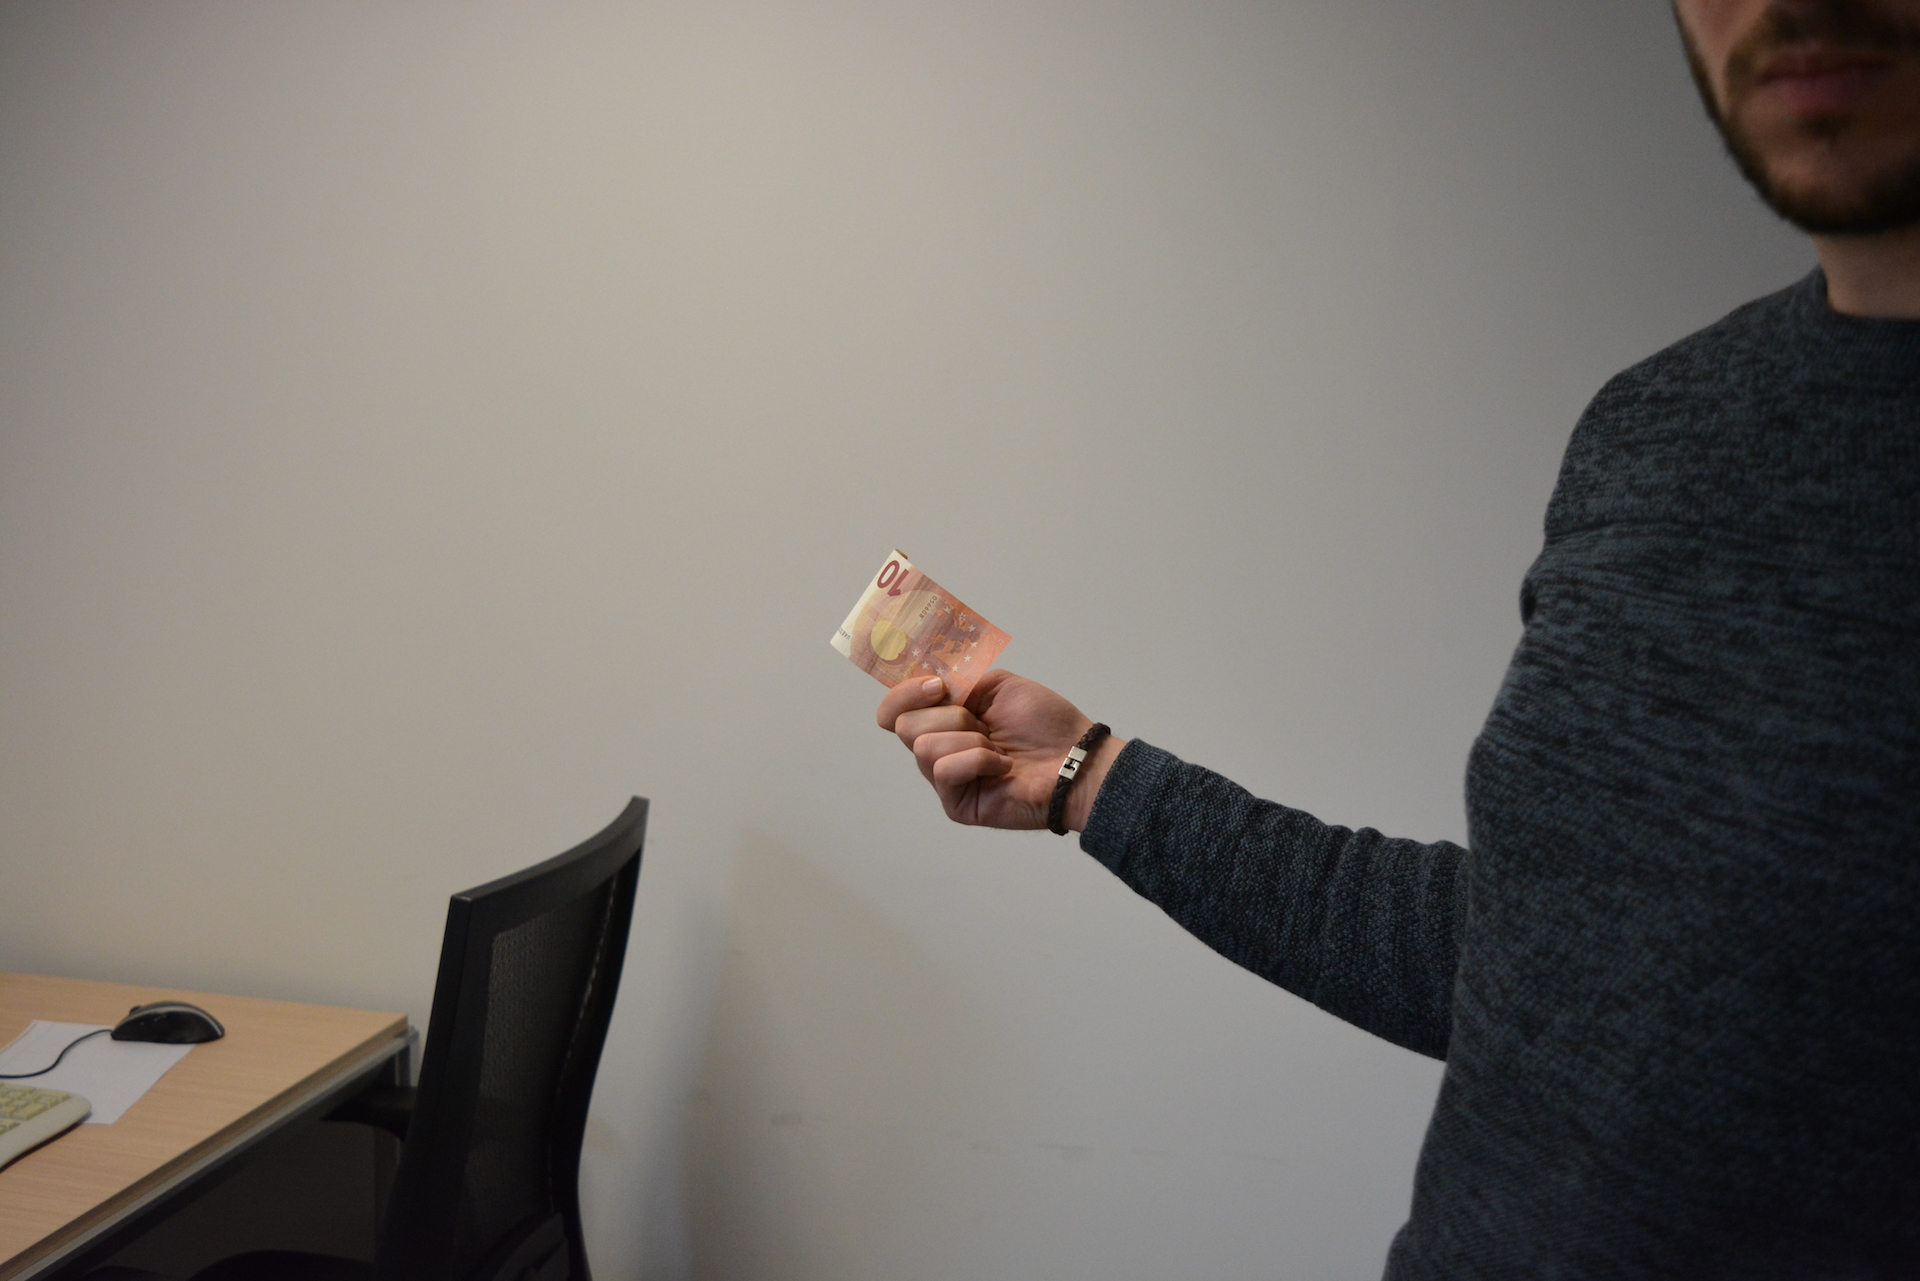billete: (828, 546, 1015, 711)
